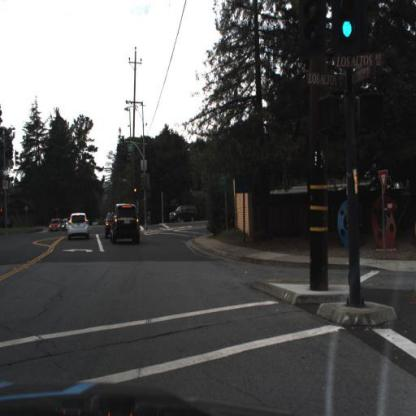car: (110, 204, 141, 245), (66, 213, 90, 241), (170, 205, 199, 224), (104, 214, 116, 237), (50, 217, 63, 233)
trafficLight-Green: (338, 2, 360, 49)
